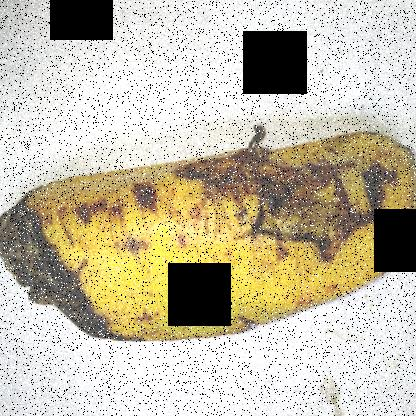rotten: (184, 99, 410, 272), (1, 172, 145, 355)
